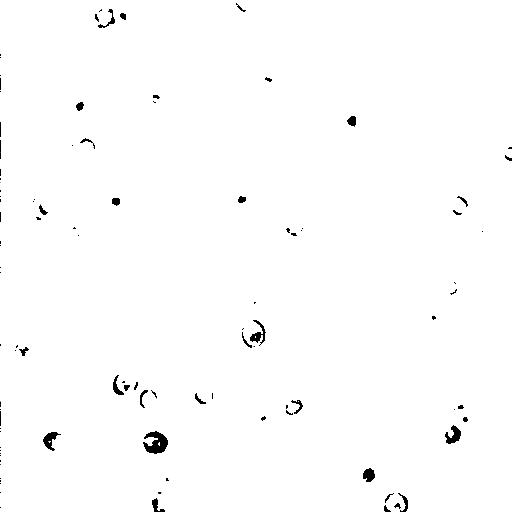micro-algae: (3, 61, 105, 162), (88, 430, 178, 510), (327, 70, 409, 150), (446, 82, 511, 153), (0, 47, 37, 134), (105, 364, 165, 417), (1, 137, 35, 209), (252, 0, 305, 35), (52, 482, 112, 512), (125, 311, 168, 352), (59, 0, 129, 24), (53, 334, 94, 374), (4, 392, 43, 431), (277, 208, 314, 246), (230, 470, 263, 506), (142, 356, 179, 388), (334, 106, 370, 138), (39, 218, 72, 252), (1, 115, 22, 167), (31, 189, 62, 223), (101, 189, 134, 217), (466, 223, 494, 255), (253, 66, 286, 93), (240, 319, 268, 350), (139, 430, 170, 458), (419, 302, 450, 329), (70, 136, 98, 164), (69, 94, 95, 121), (248, 409, 275, 432), (142, 492, 173, 512), (92, 6, 117, 30), (114, 372, 139, 396), (12, 341, 35, 367), (383, 492, 412, 512), (114, 3, 138, 27), (437, 274, 460, 298), (65, 222, 88, 245), (451, 406, 476, 427), (29, 473, 55, 493), (442, 424, 464, 446), (43, 431, 66, 452), (449, 195, 470, 217), (409, 501, 449, 512), (193, 386, 216, 405), (140, 388, 159, 411), (271, 91, 291, 112), (285, 397, 305, 417), (154, 471, 173, 491), (251, 294, 269, 315), (396, 0, 427, 12), (359, 467, 378, 486), (159, 0, 187, 12), (232, 0, 256, 13), (2, 217, 13, 243), (503, 98, 512, 129), (193, 0, 219, 10), (437, 67, 453, 83), (236, 193, 251, 205), (503, 145, 512, 163)
